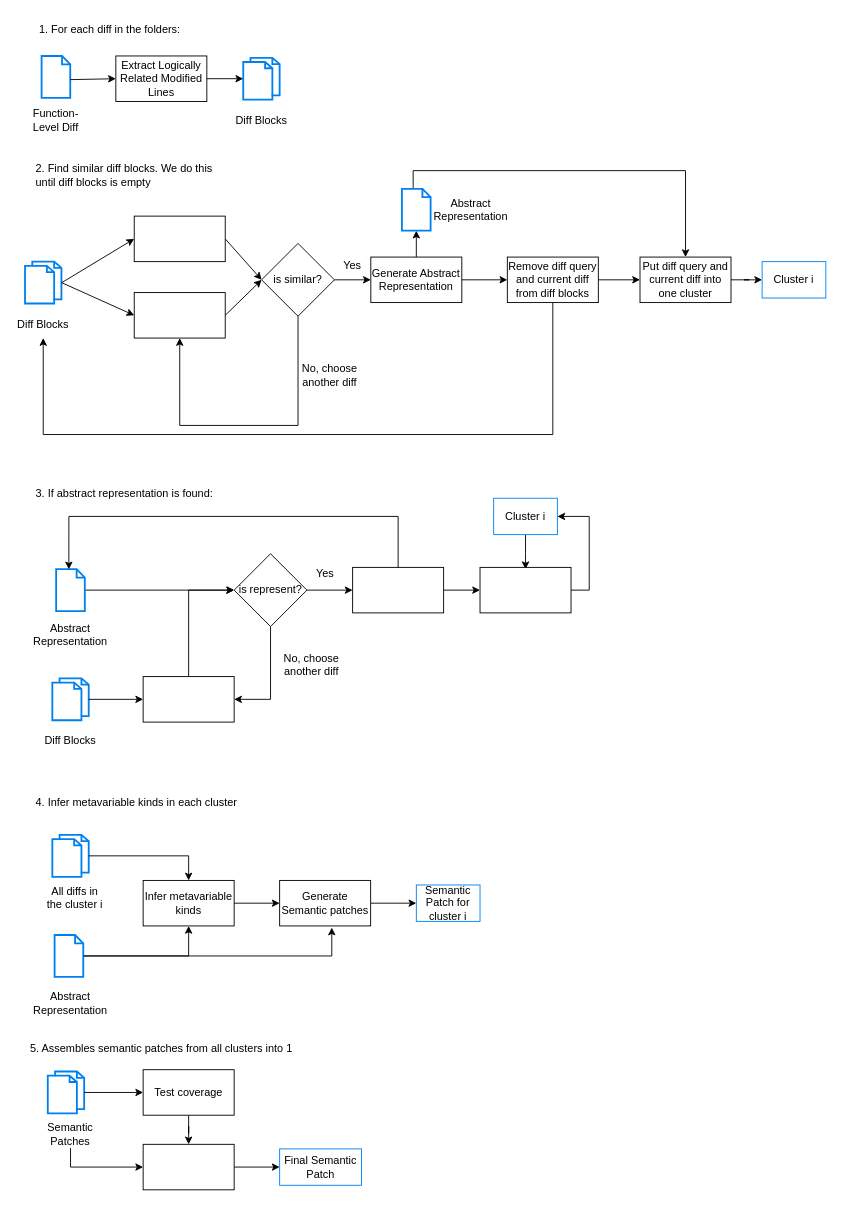
The diagram is 842 pixels wide and 1206 high, and some of its shapes have lost their labels. Each missing label, with the centre of its shape:
Assemble semantic patches: [188,1166]
Choose diff: [188,699]
Choose diff besides diff query: [179,315]
Choose diff query: [179,238]
Refine Abstract Representation: [398,589]
Update cluster: [525,589]
